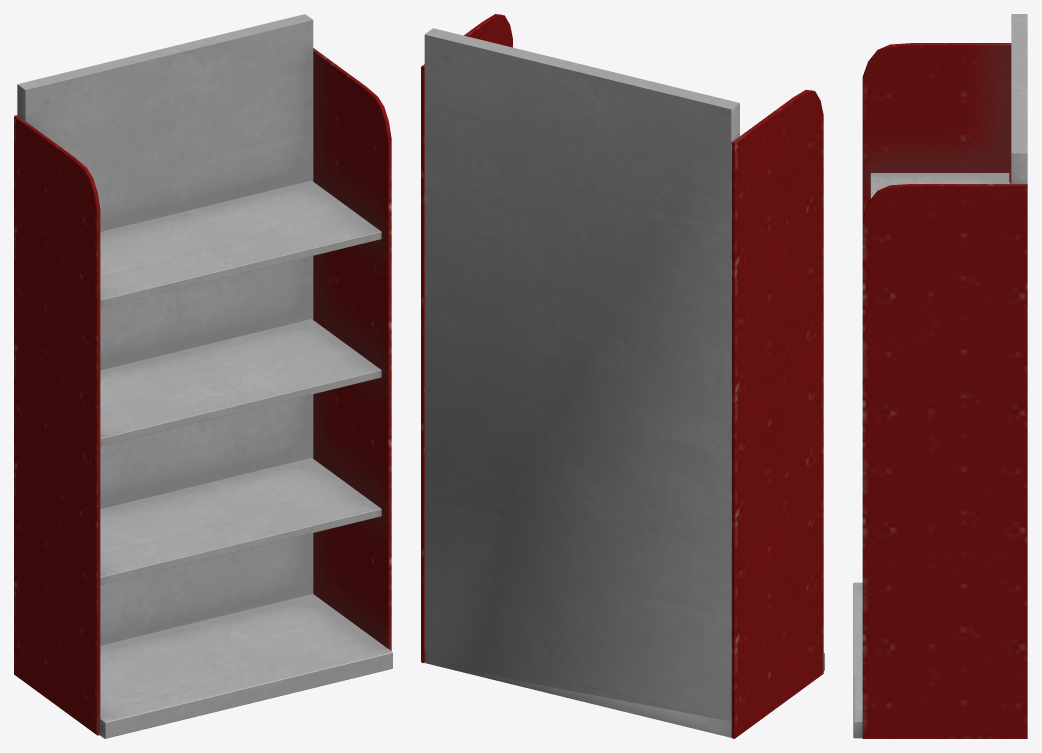
File: Shelf.fbx
3 renders of one model, left to right at view 1: azimuth 30°, elevation 25°; view 2: azimuth 150°, elevation 25°; view 3: azimuth 270°, elevation 25°, orthographic. The views are drawn at different scales.
Parts seen in each view (by area): view 1: Shelf; view 2: Shelf; view 3: Shelf.
Boxes of the visible parts, x1,y1,x2,y2 form: Shelf: (14, 14, 392, 738); Shelf: (421, 14, 824, 738); Shelf: (853, 14, 1027, 738).
Size of the model in its own units: 247 by 473 by 127.
